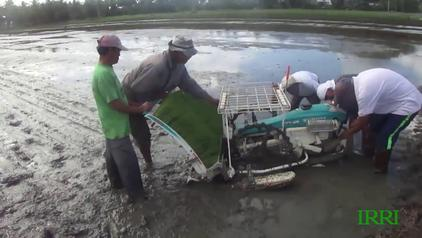down: (276, 72, 331, 107)
sit: (276, 72, 331, 107)
